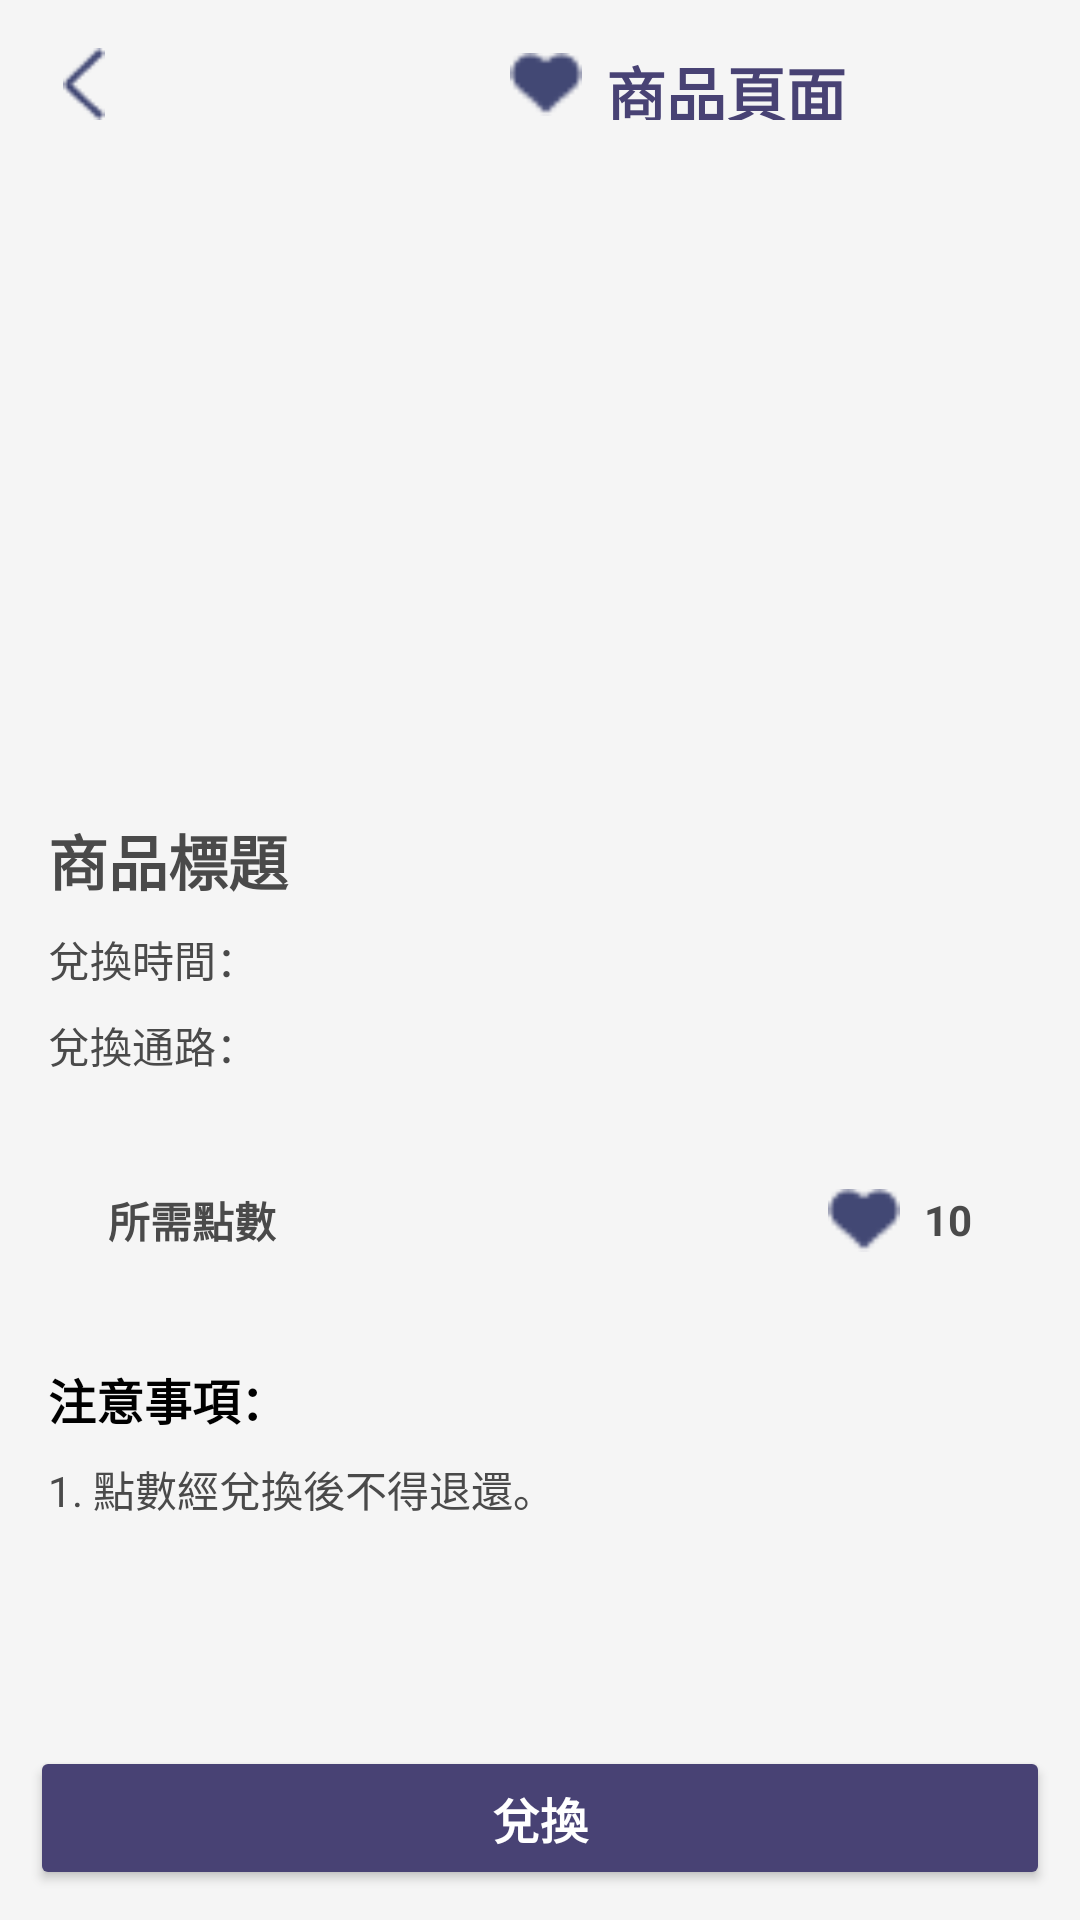

Point at icon controls on the screen. Image size 1080 × 1920, points as (x=x, y=y).
back: (x=84, y=84)
heart: (x=546, y=83), (x=864, y=1219)
